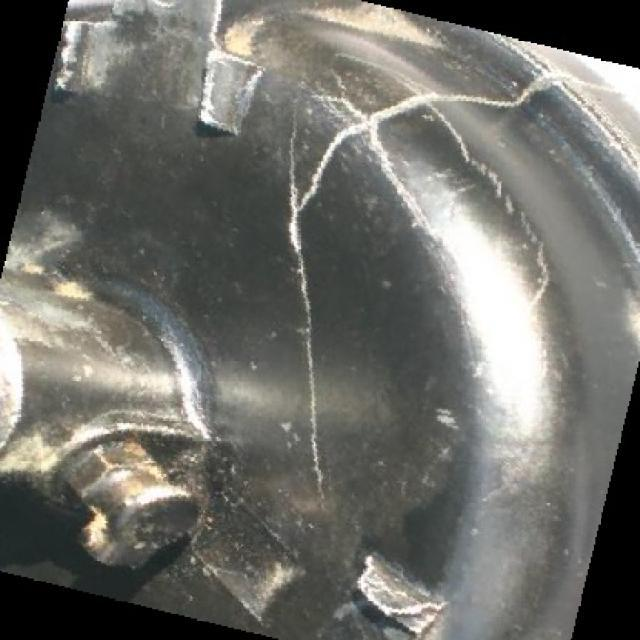crack: (287, 110, 323, 487), (377, 123, 406, 191), (433, 90, 521, 110), (332, 121, 371, 157), (296, 157, 324, 203), (377, 97, 426, 120)
